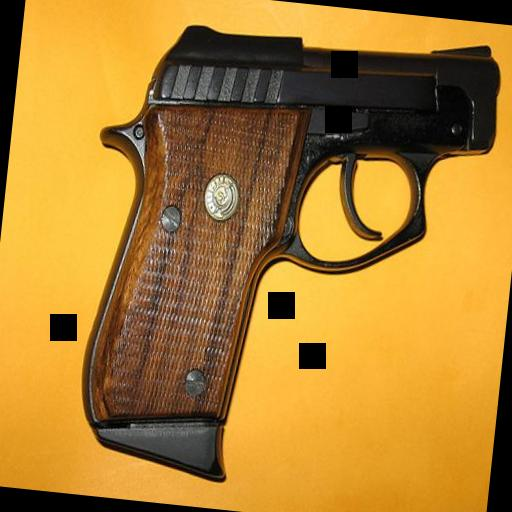Handgun: (60, 2, 504, 505)
